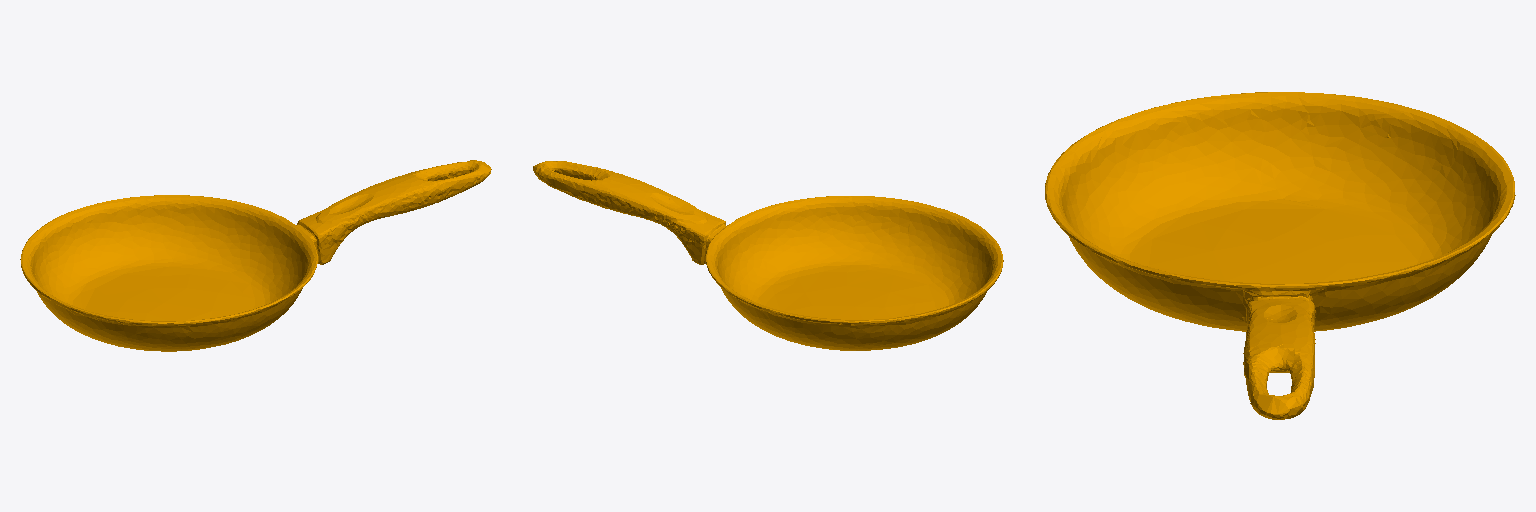
The robot description file, URDF, robot "chefmate_8_frypan":
<?xml version="1.0"?>
<!-- GENERATED by tasks/libero/build_env/build_object_urdf.py. Do not hand edit.

     LIBERO object `chefmate_8_frypan`, spawnable by the TRO-MP env.
     Role: graspable target object (envs/), one of the 22 LIBERO target assets.

     WHY a URDF when envs/chefmate_8_frypan/ may also hold a USD: this env spawns objects
     only through `assets.object_urdf` (scene_utils.py:1929, which calls
     _convert_urdf_to_usd at :1964). The assets dataclass declares no USD field,
     so a ready-made USD cannot be handed to this code path.

     Mesh coordinates are PRESERVED, not re-centred: 11 of 22 LIBERO envs have
     their mesh origin at the object's base, and `goal_traj` tracks that origin.
     Re-centring would offset the object from its own trajectory every frame.

     Mass: density 800.0 kg/m^3 x mesh volume 1.589023e-04 m^3
     Inertia: solid-box approximation about the COM at that mass, NOT the true
     mesh inertia tensor. Adequate for a graspable tabletop object; revisit if
     spin dynamics matter.

     Collision: the full mesh, decomposed by Isaac's URDF importer. The convex
     decomposition authored in the DexVerse USD is NOT reproduced here.
-->
<robot name="chefmate_8_frypan">
  <link name="chefmate_8_frypan">
    <inertial>
      <origin xyz="0.057458 0.001853 0.021810" rpy="0 0 0"/>
      <mass value="0.127122"/>
      <inertia ixx="4.744196e-04" ixy="0" ixz="0" iyy="1.373732e-03" iyz="0" izz="1.784015e-03"/>
    </inertial>
    <visual>
      <origin xyz="0 0 0" rpy="0 0 0"/>
      <geometry><mesh filename="chefmate_8_frypan.obj" scale="1 1 1"/></geometry>
    </visual>
    <collision>
      <origin xyz="0 0 0" rpy="0 0 0"/>
      <geometry><mesh filename="chefmate_8_frypan.obj" scale="1 1 1"/></geometry>
    </collision>
  </link>
</robot>

--- Render facts (derived) ---
The picture shows the robot from 3 angles, left to right: view 1: azimuth 30°, elevation 25°; view 2: azimuth 150°, elevation 25°; view 3: azimuth 270°, elevation 25°; orthographic projection.
Robot: chefmate_8_frypan — 1 links, 0 joints (none); root link chefmate_8_frypan; default pose: every joint at zero.
Links seen in each view (by area): view 1: chefmate_8_frypan; view 2: chefmate_8_frypan; view 3: chefmate_8_frypan.
Boxes of the visible links, <box> form: chefmate_8_frypan: <box>20,160,491,351</box>; chefmate_8_frypan: <box>533,161,1003,350</box>; chefmate_8_frypan: <box>1045,92,1515,419</box>.
Size in the robot's own frame: 0.3559 by 0.2043 by 0.055 metres.
1 mesh visuals loaded from 1 distinct referenced files (1 OBJ).
